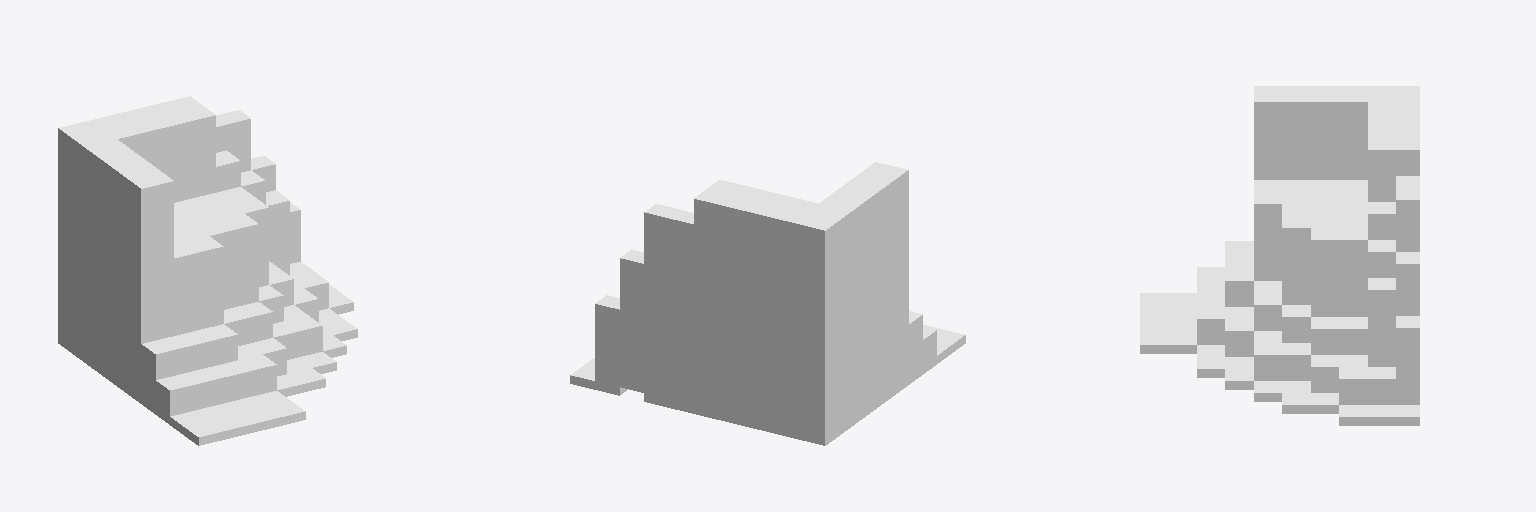
Rendered from MushroomDaddyInterior_01-14.obj.
3 renders of one model, left to right at view 1: azimuth 30°, elevation 25°; view 2: azimuth 150°, elevation 25°; view 3: azimuth 270°, elevation 25°, orthographic.
Visible parts, largest first — view 1: MushroomDaddyInterior_01-14; view 2: MushroomDaddyInterior_01-14; view 3: MushroomDaddyInterior_01-14.
Part boxes in pixels (x1,y1,x2,y2): MushroomDaddyInterior_01-14: (58, 96, 357, 445); MushroomDaddyInterior_01-14: (570, 162, 965, 445); MushroomDaddyInterior_01-14: (1140, 86, 1419, 425).
Bounding box in the file's own units: 124 × 100 × 118.